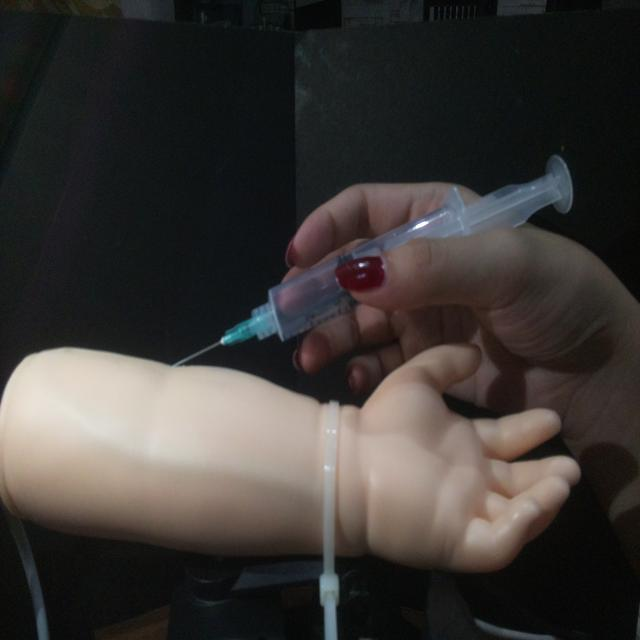23deg: (169, 148, 577, 370)
